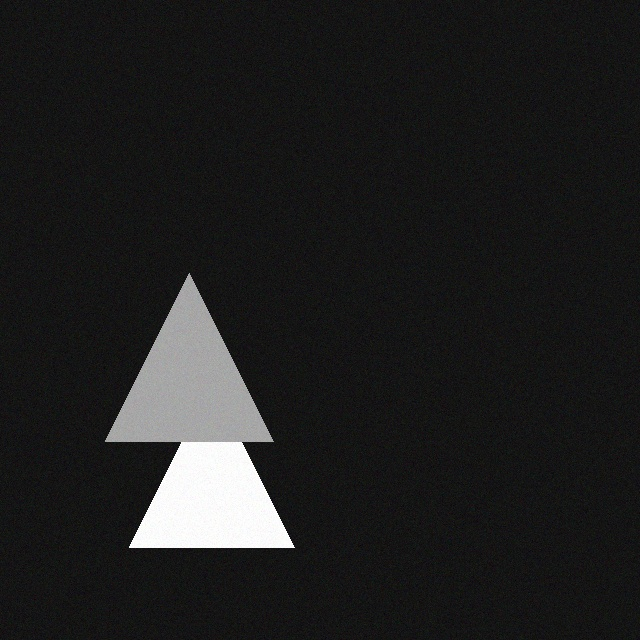triangle: (99, 266, 267, 434), (123, 375, 288, 540)
